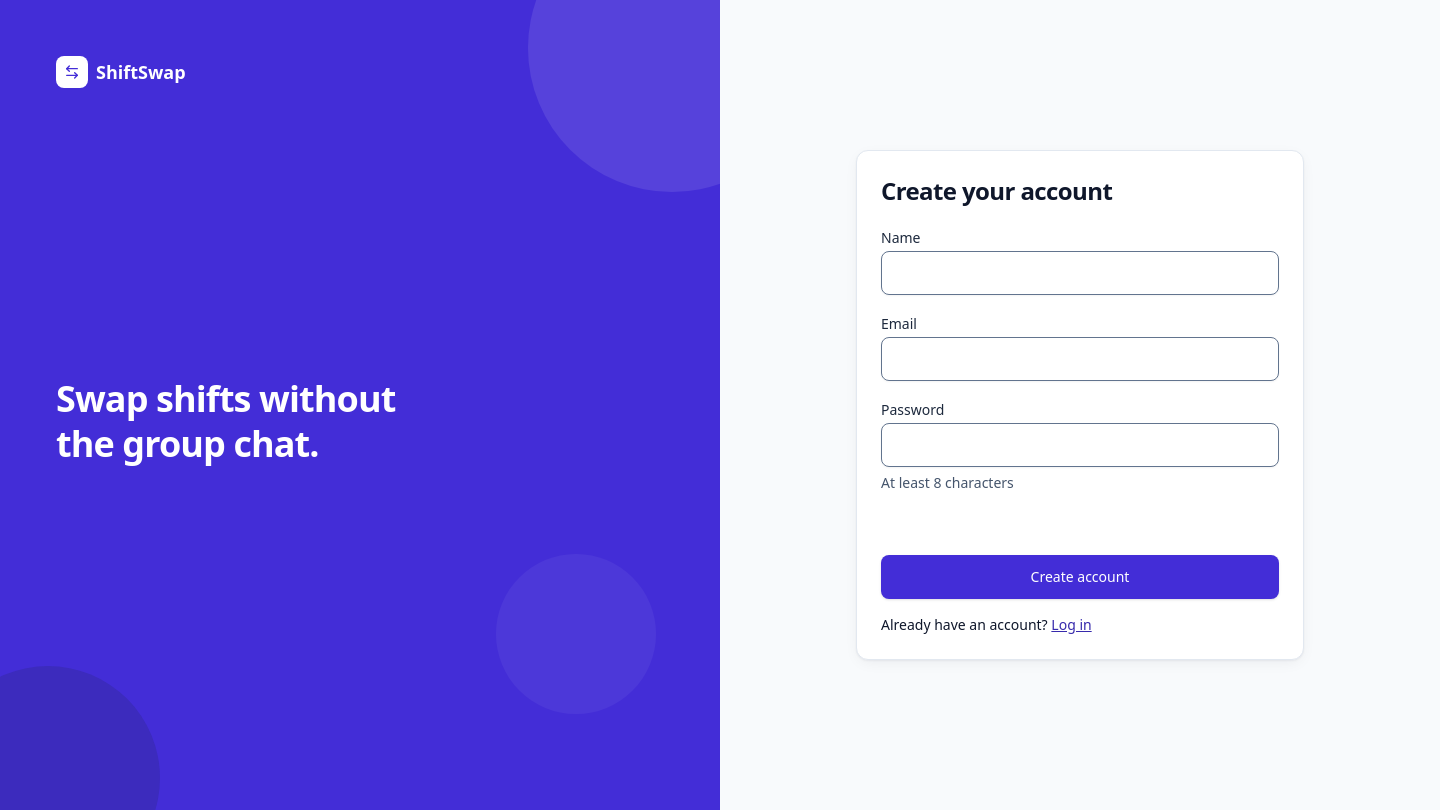
Test case: SignUpPage › shows a generic message when the request throws
The width and height of the screenshot is (1440, 810).
Type "Anna Schmidt" into the field labelled "Name" at (1080, 273), box [881,251,1279,295]
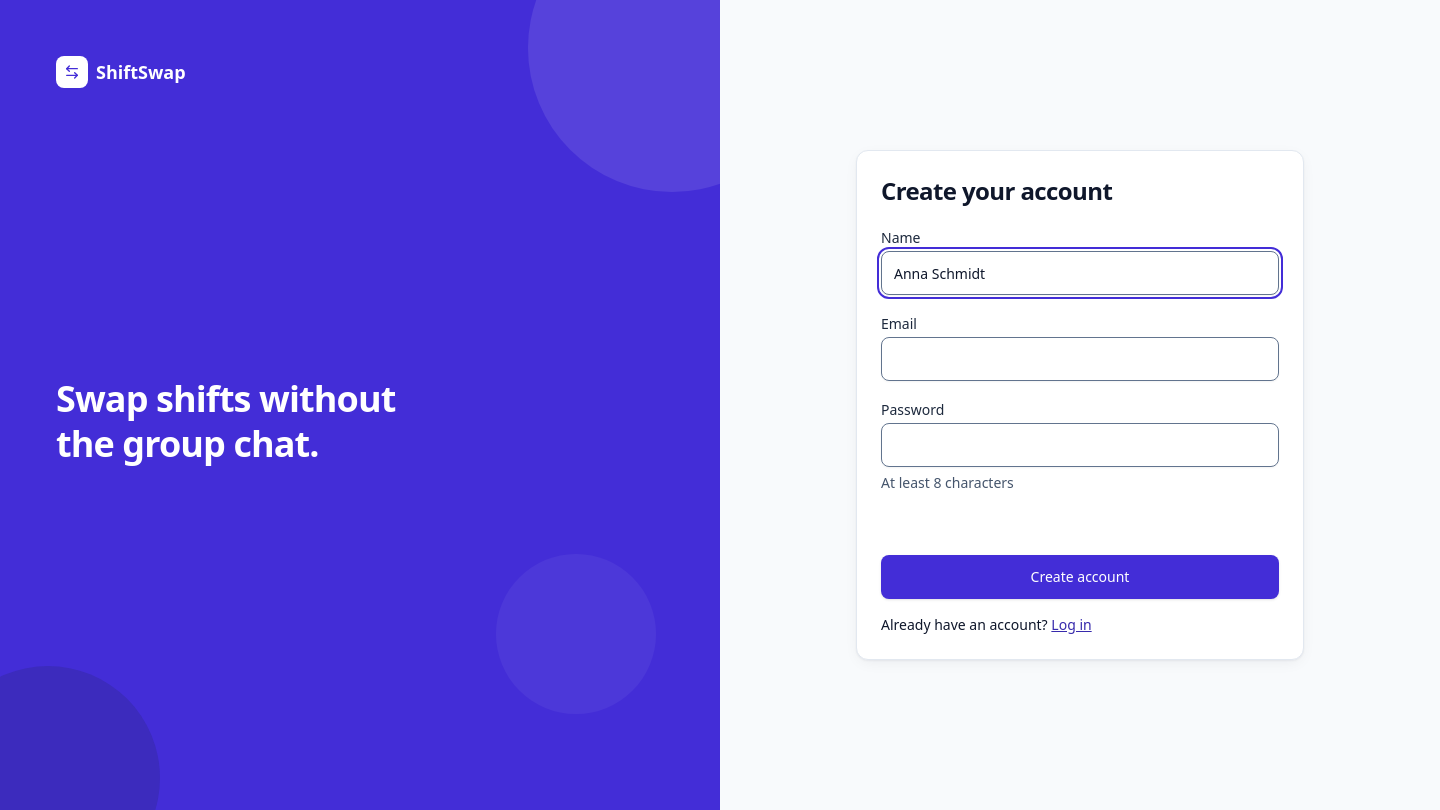
Type "Anna@ShiftSwap.test" into the field labelled "Email" at (1080, 359), box [881,337,1279,381]
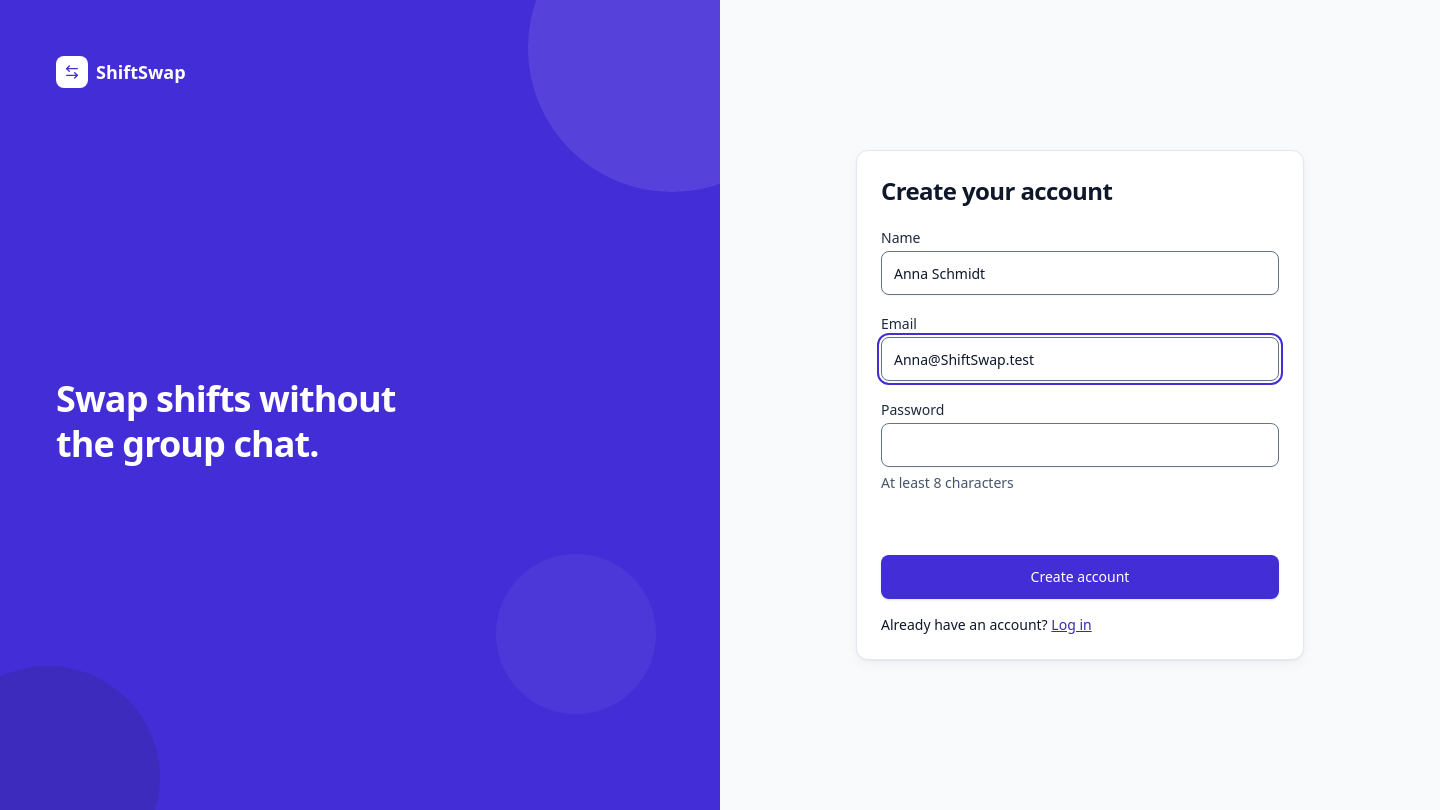
Type "longenough1" into the password field labelled "Password" at (1080, 445), box [881,423,1279,467]
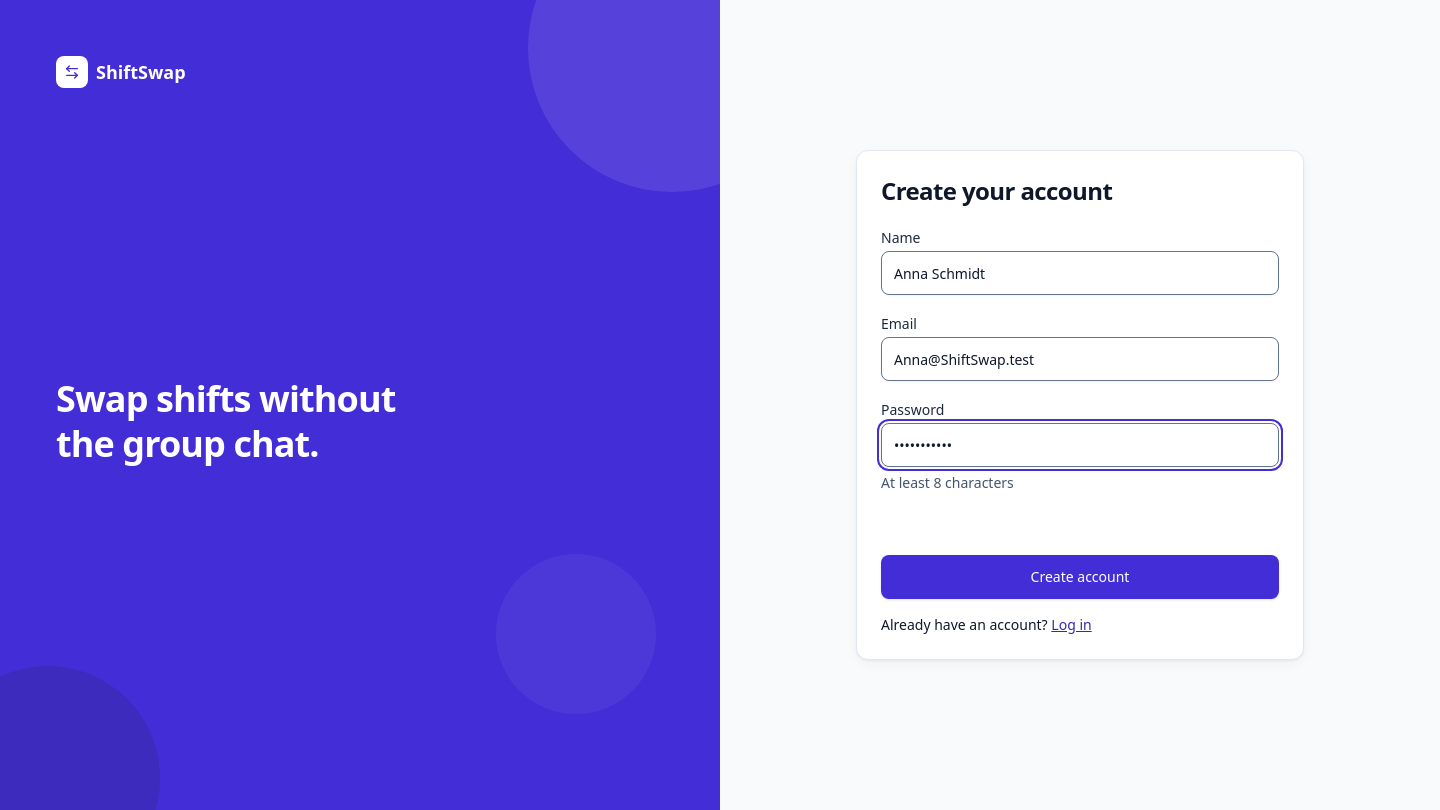
Click the button "Create account" at (1080, 577), box [881,555,1279,599]
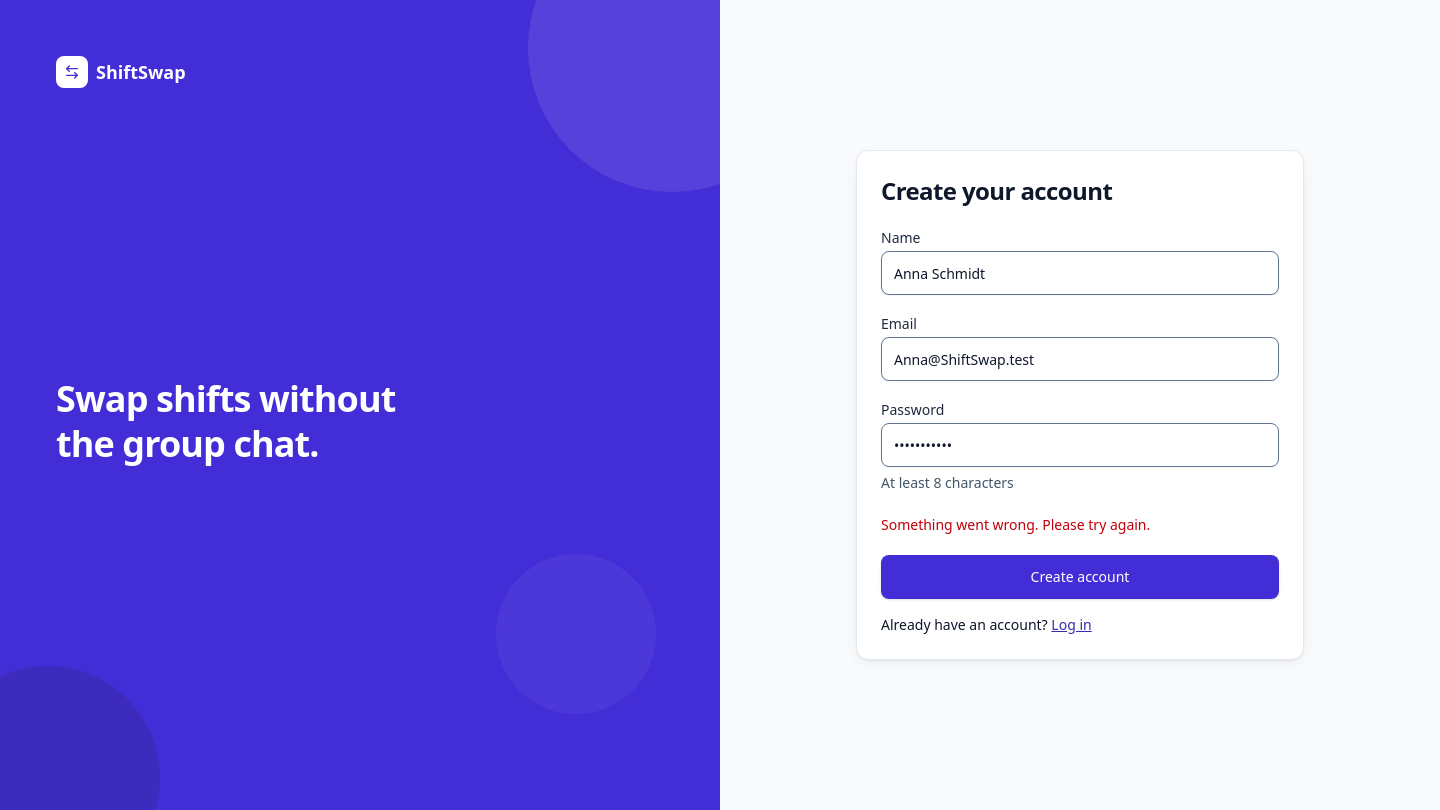
Now the message reads "Something went wrong. Please try again.", box [881,515,1150,534]
